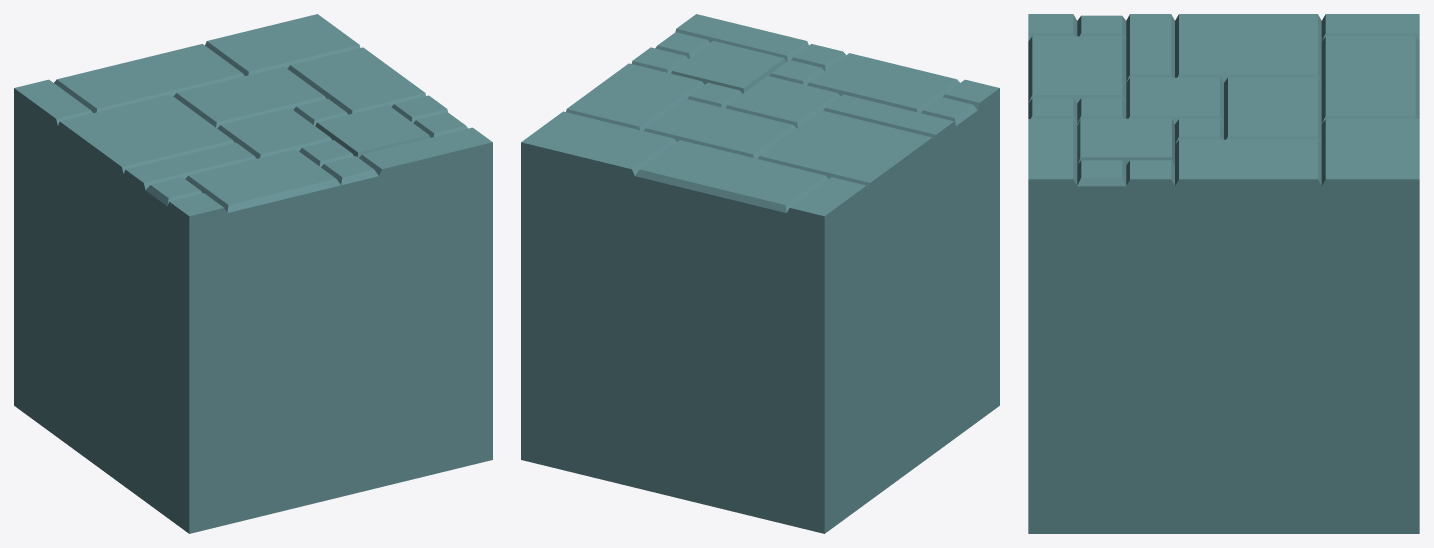
The model's file is MDL_StoneFloorMiddle_Tile.fbx.
The picture shows the model from 3 angles, left to right: view 1: azimuth 30°, elevation 25°; view 2: azimuth 150°, elevation 25°; view 3: azimuth 270°, elevation 25°; orthographic projection. The views are drawn at different scales.
Visible parts, largest first — view 1: LowPoly; view 2: LowPoly; view 3: LowPoly.
Boxes of the visible parts, x1,y1,x2,y2 form: LowPoly: [14, 14, 492, 533]; LowPoly: [521, 14, 999, 533]; LowPoly: [1028, 14, 1419, 533].
Bounding box in the file's own units: 100 × 100 × 100.
